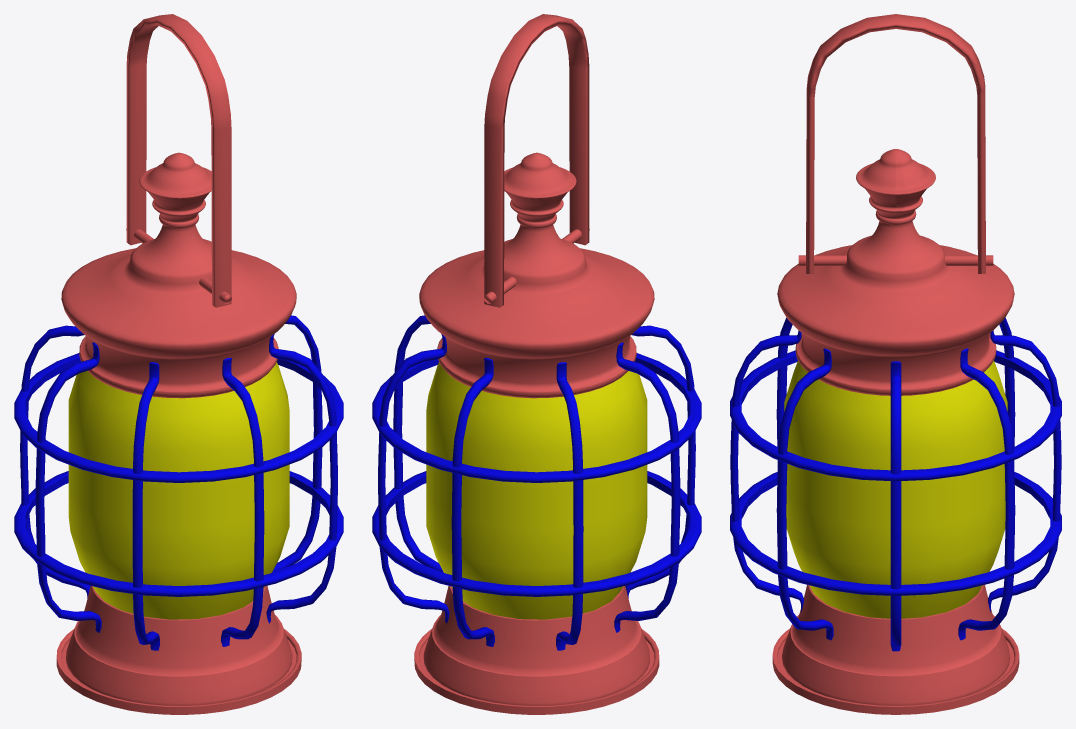
The model's file is Lantern_full_LP.fbx.
3 renders of one model, left to right at view 1: azimuth 30°, elevation 25°; view 2: azimuth 150°, elevation 25°; view 3: azimuth 270°, elevation 25°, orthographic.
Visible parts, largest first — view 1: Metal, glass, Griglia, handle; view 2: Metal, glass, Griglia, handle; view 3: Metal, glass, Griglia, handle, bar.
Part boxes in pixels (<box>): Metal: <box>56,152,301,714</box>; glass: <box>68,362,289,619</box>; Griglia: <box>14,315,343,650</box>; handle: <box>126,14,231,307</box>; Metal: <box>414,152,659,714</box>; glass: <box>426,362,647,619</box>; Griglia: <box>372,315,701,650</box>; handle: <box>484,14,589,307</box>; Metal: <box>772,149,1019,714</box>; glass: <box>784,360,1007,618</box>; Griglia: <box>730,317,1061,651</box>; handle: <box>806,14,985,273</box>; bar: <box>798,255,993,265</box>.
Size of the model in its own units: 3.28 by 6.99 by 3.26.
